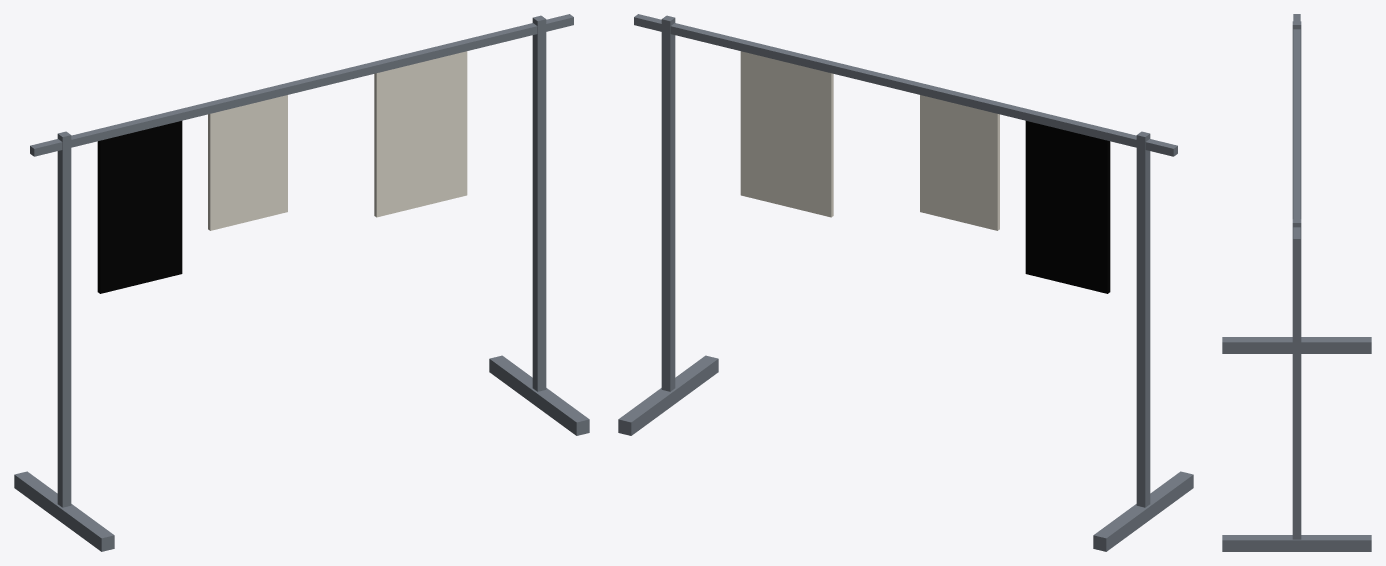
The model's file is LaundryStand.fbx.
3 renders of one model, left to right at view 1: azimuth 30°, elevation 25°; view 2: azimuth 150°, elevation 25°; view 3: azimuth 270°, elevation 25°, orthographic. The views are drawn at different scales.
Parts seen in each view (by area): view 1: TowelWhite, Frame, TowelBlue; view 2: TowelWhite, Frame, TowelBlue; view 3: Frame.
Part boxes in pixels (left/top/right/bottom): TowelWhite: left=208, top=51, right=467, bottom=230; Frame: left=14, top=14, right=589, bottom=551; TowelBlue: left=97, top=121, right=182, bottom=293; TowelWhite: left=740, top=51, right=999, bottom=230; Frame: left=618, top=14, right=1193, bottom=551; TowelBlue: left=1025, top=121, right=1110, bottom=293; Frame: left=1222, top=14, right=1371, bottom=551.
Bounding box in the file's own units: 2.5 × 1.7 × 0.7.
